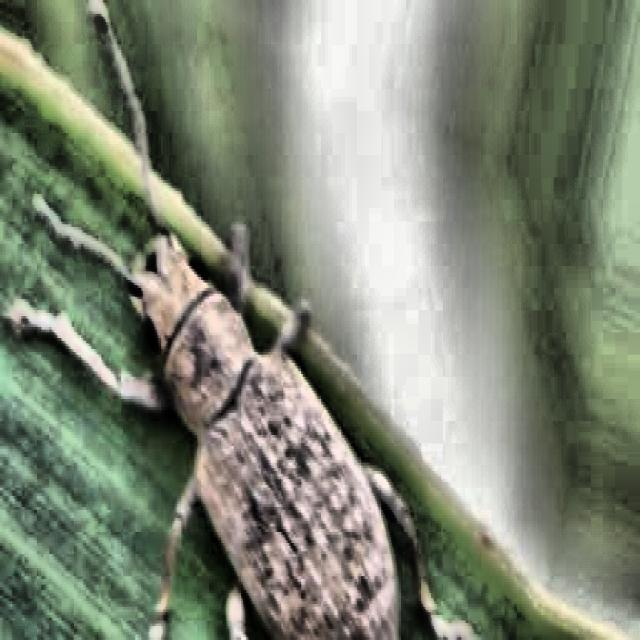Stink bug: (37, 86, 394, 640)
